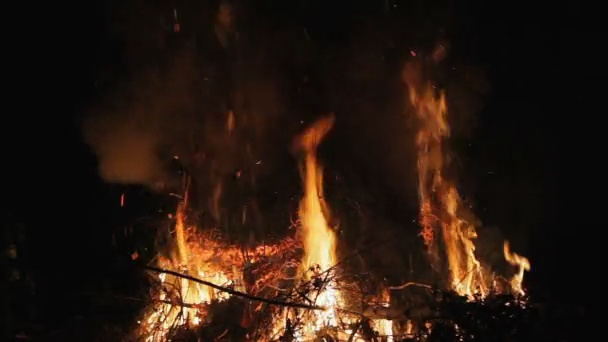fire: (414, 70, 486, 305), (142, 209, 228, 342), (291, 124, 341, 342), (502, 238, 529, 294)
